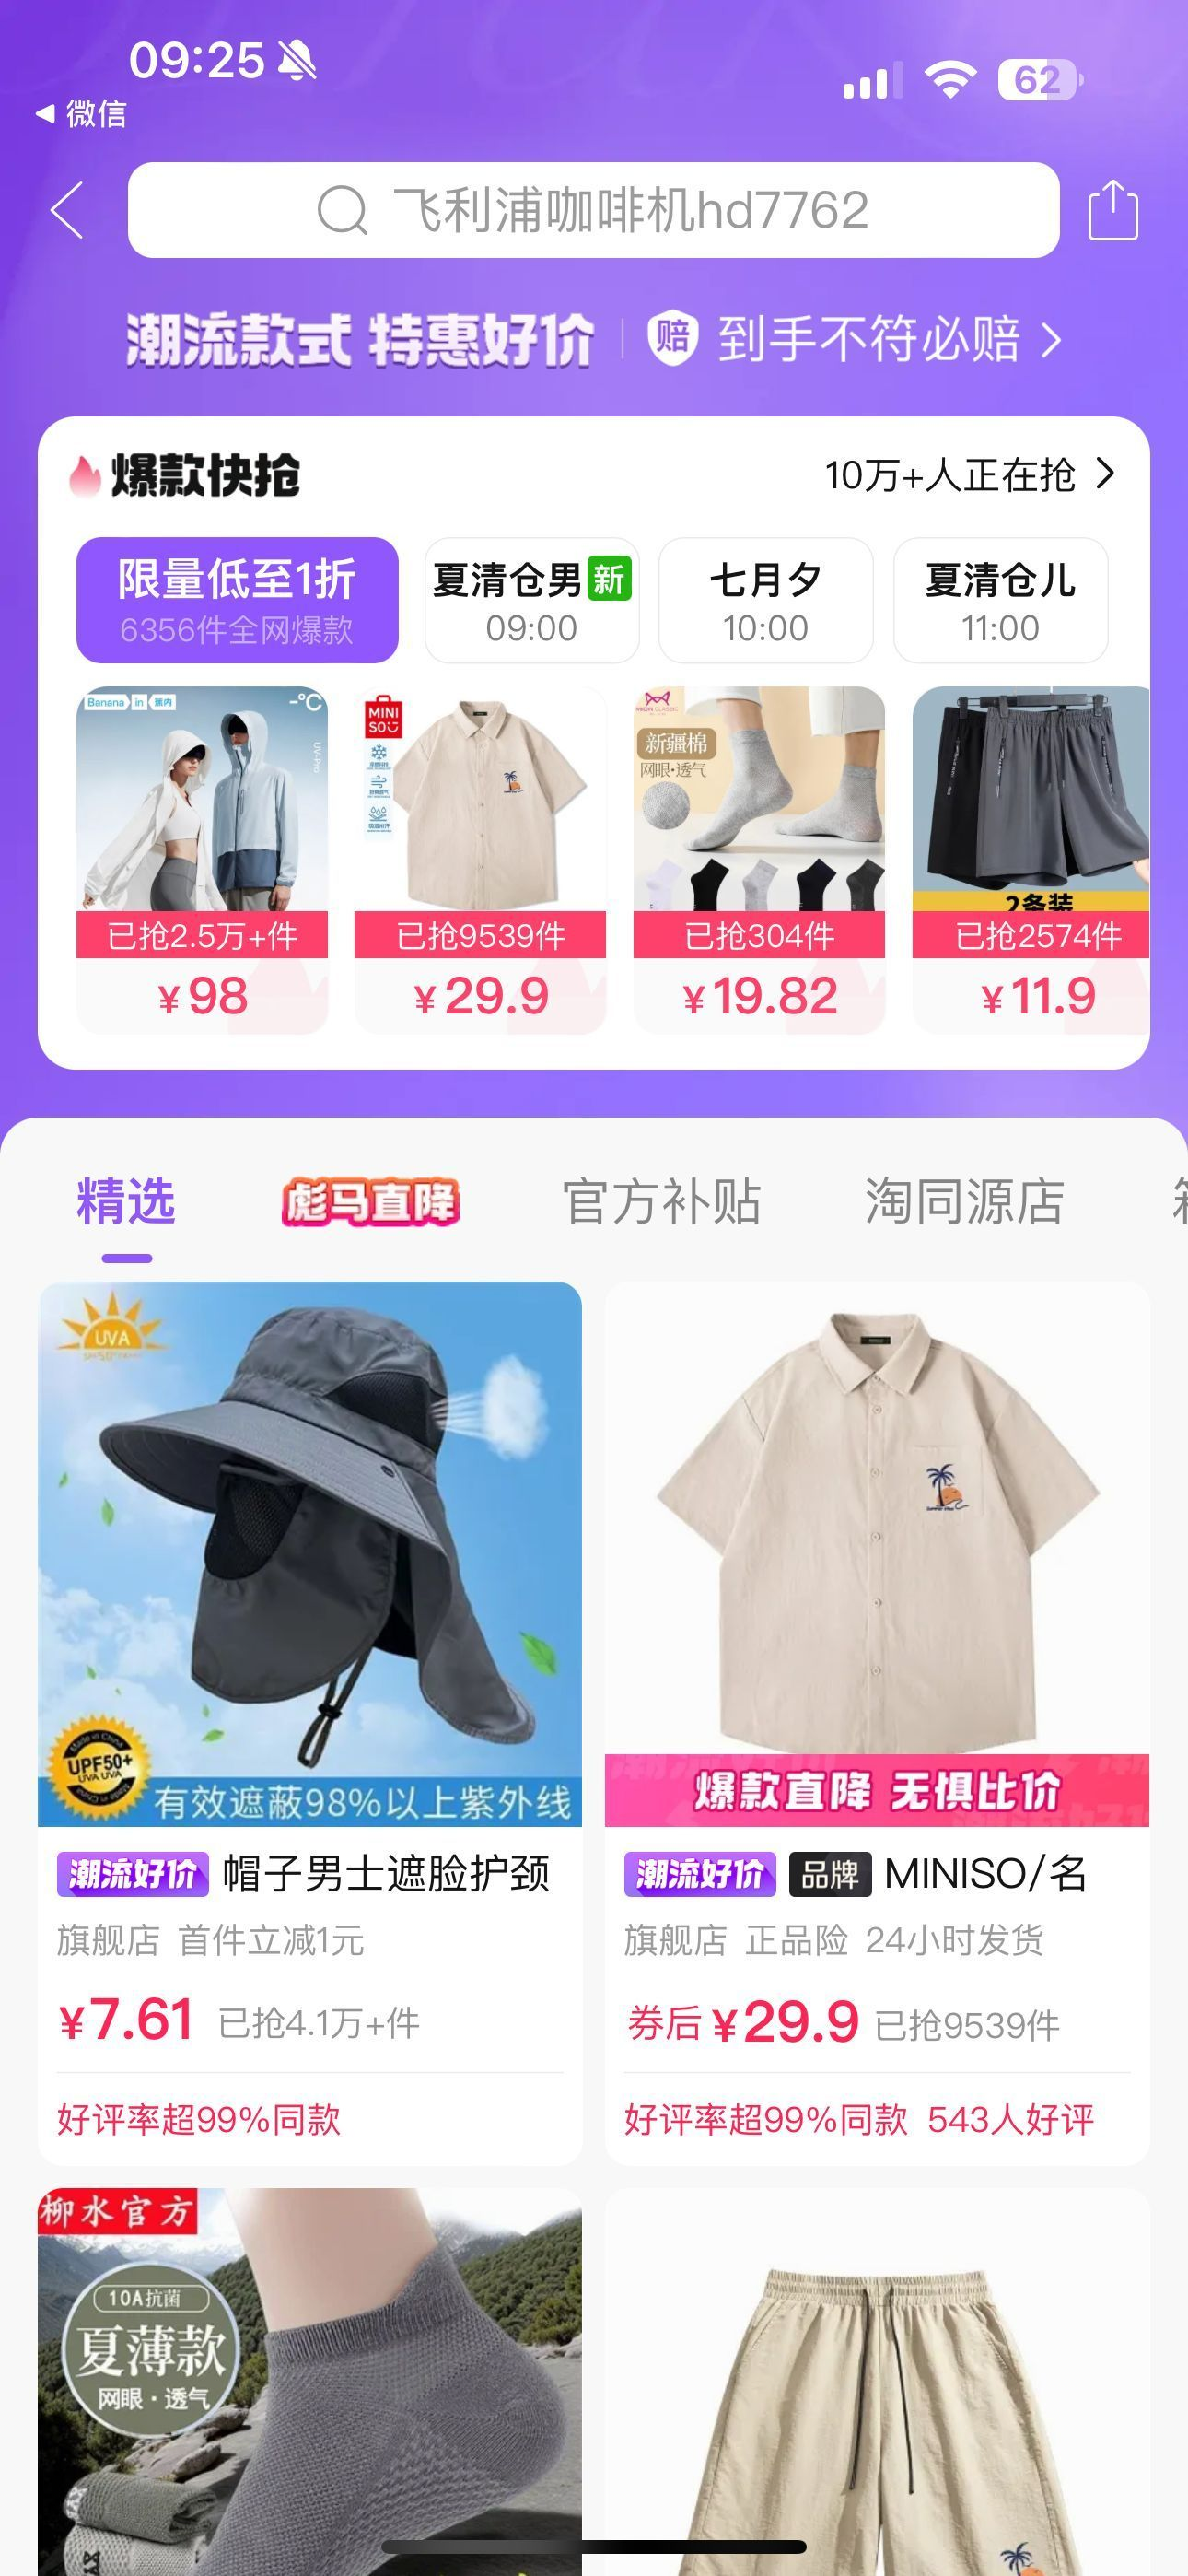item: (585, 1257, 1185, 2177), (13, 1262, 596, 2188)
op_bar: (16, 138, 1186, 286)
seckill: (10, 383, 1188, 1096)
